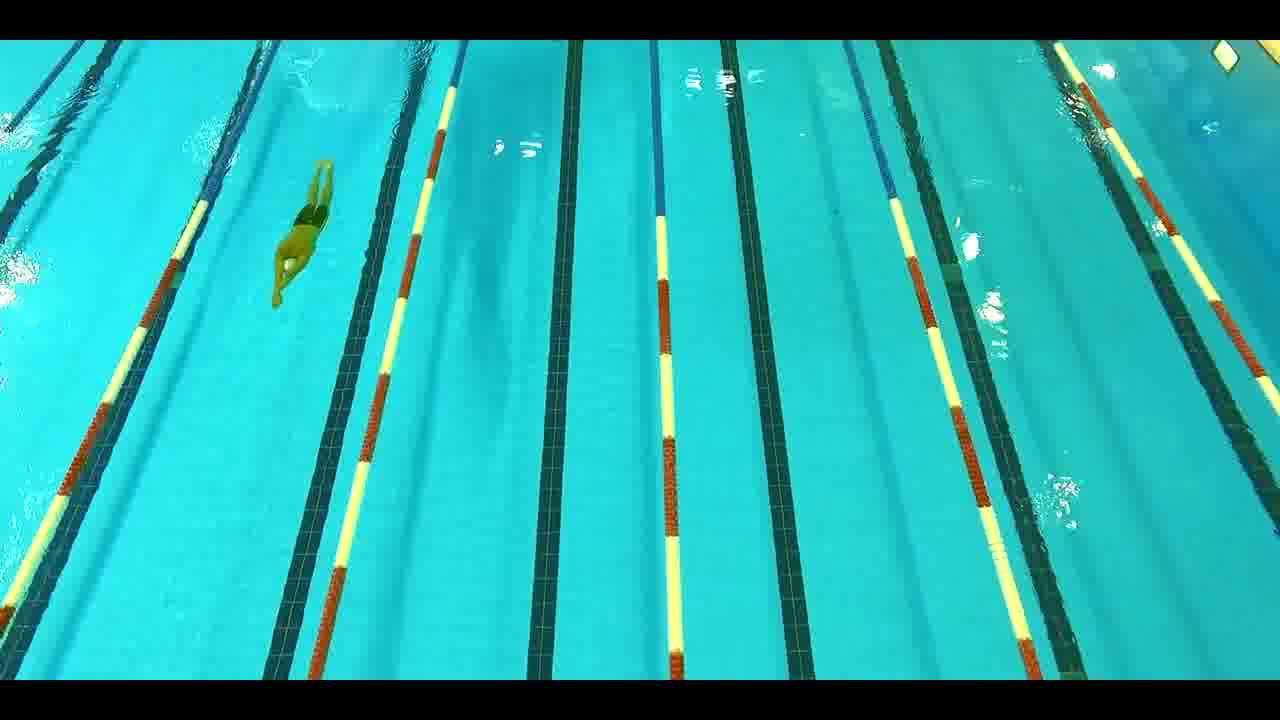swimmer: (259, 159, 338, 313)
